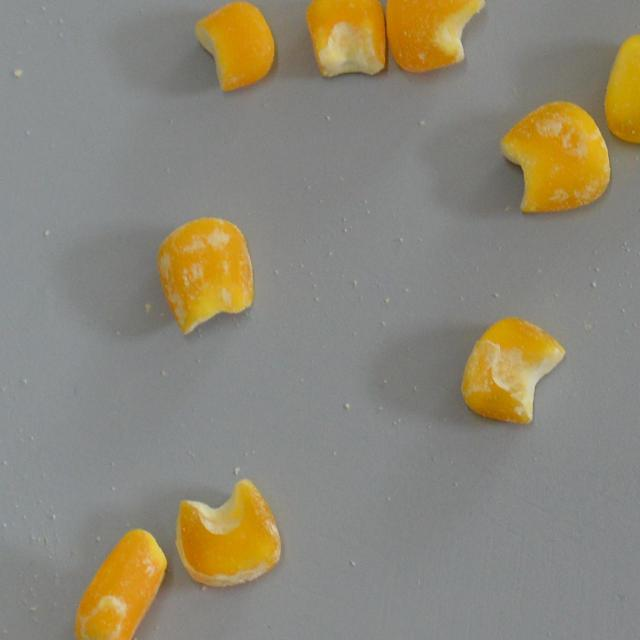no_canjicado: (192, 1, 274, 92), (304, 0, 383, 75)
pelicula: (498, 101, 611, 214), (154, 216, 254, 334), (175, 478, 282, 586), (461, 316, 565, 425), (75, 528, 167, 640), (384, 0, 485, 74), (601, 34, 640, 148)
